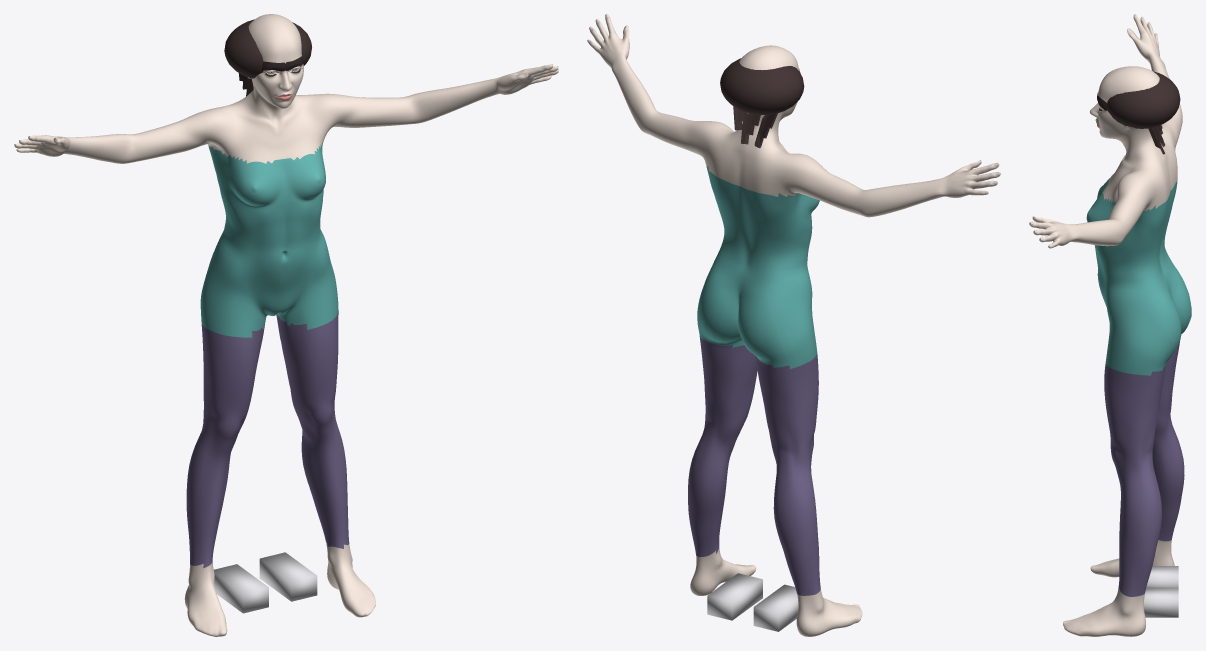
The model's file is hm_ped_suki_v13.glb.
The picture shows the model from 3 angles, left to right: view 1: azimuth 30°, elevation 25°; view 2: azimuth 150°, elevation 25°; view 3: azimuth 270°, elevation 25°; orthographic projection. The views are drawn at different scales.
Parts seen in each view (by area): view 1: hm_ped_suki; view 2: hm_ped_suki; view 3: hm_ped_suki.
Boxes of the visible parts, <box> form: hm_ped_suki: <box>14,14,558,636</box>; hm_ped_suki: <box>587,14,1000,636</box>; hm_ped_suki: <box>1029,14,1191,636</box>.
Size of the model in its own units: 1.4 by 1.62 by 0.4445.
